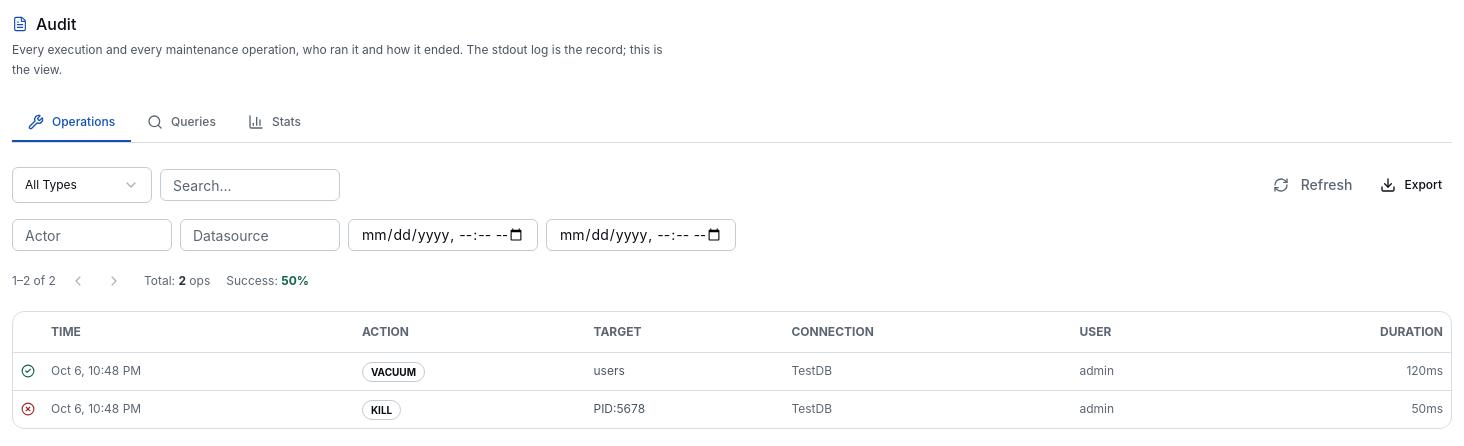
Test: AuditTab › status filter works in queries tab
Switch to the Queries tab
Click the tab "Queries" at (182, 122), box [131,103,232,142]
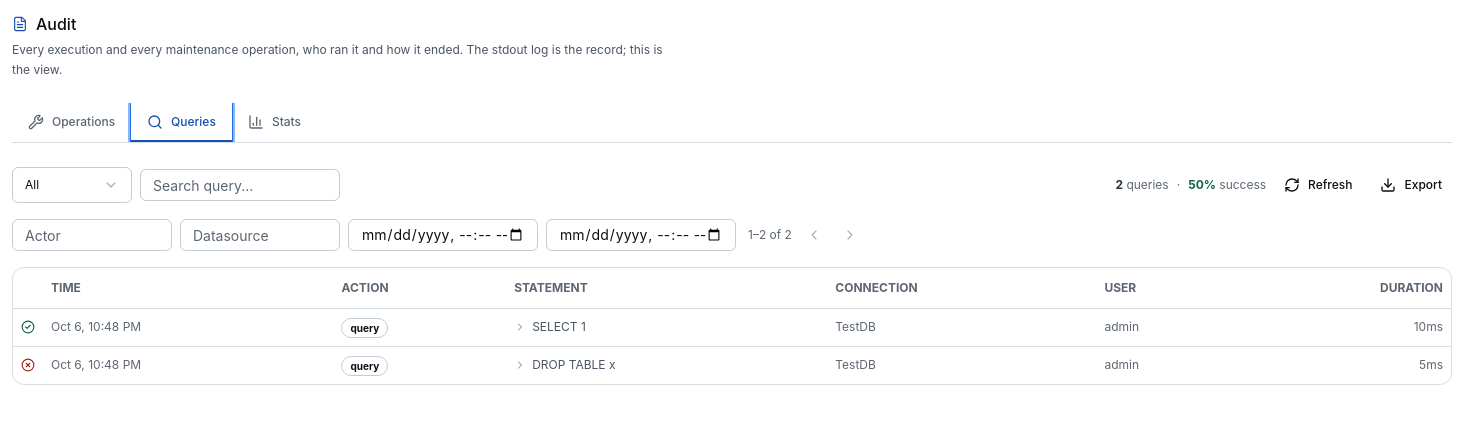
Expected: the text "SELECT 1" is shown, [532,319,586,335]
Expected: the text "DROP TABLE x" is shown, [532,357,616,373]
Press ArrowDown in the dropdown labelled "All", box [12,167,132,203]
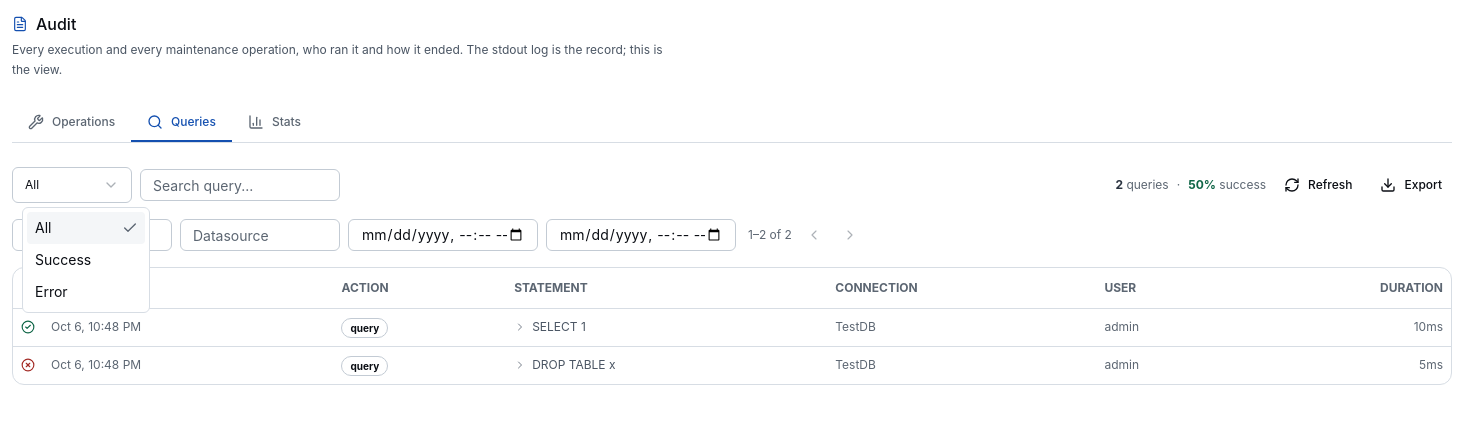
Expected: the option "Error" is shown
Press Enter in the option "Error", box [35,283,68,300]
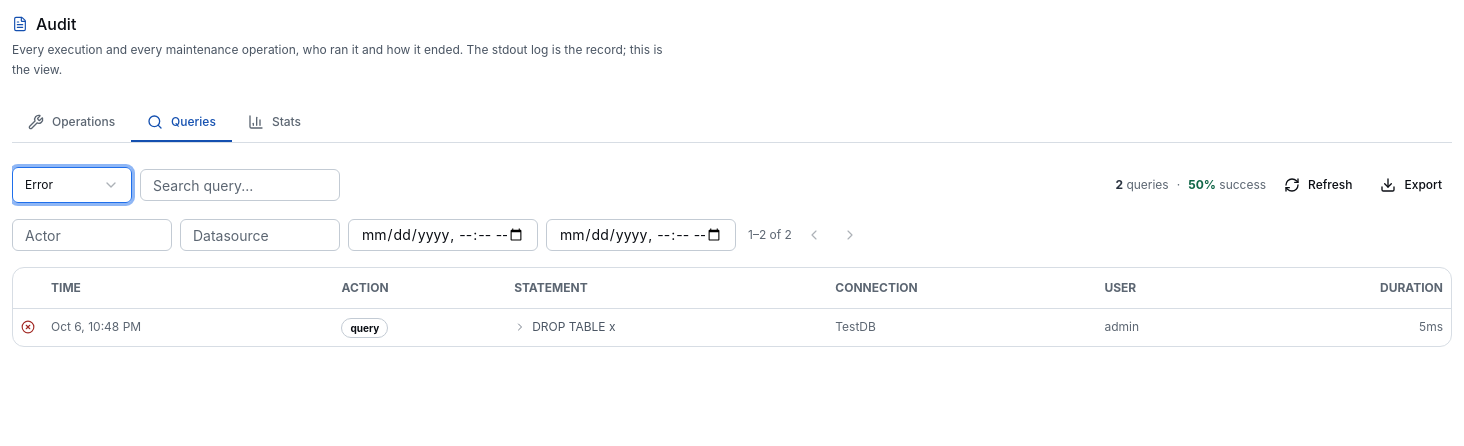
Expected: the text "DROP TABLE x" is shown, [532,319,616,335]
Expected: the button "SELECT 1" is gone
